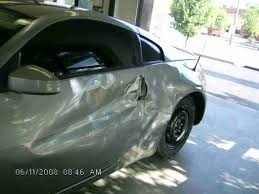Dent: (24, 72, 174, 171)
